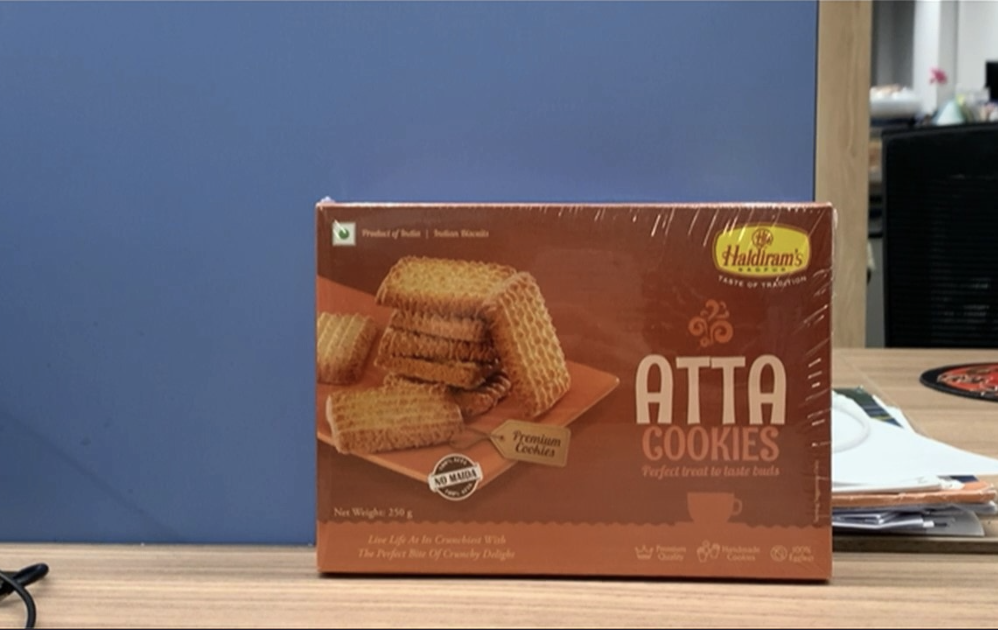cookies_200g-299g: (328, 217, 821, 563)
